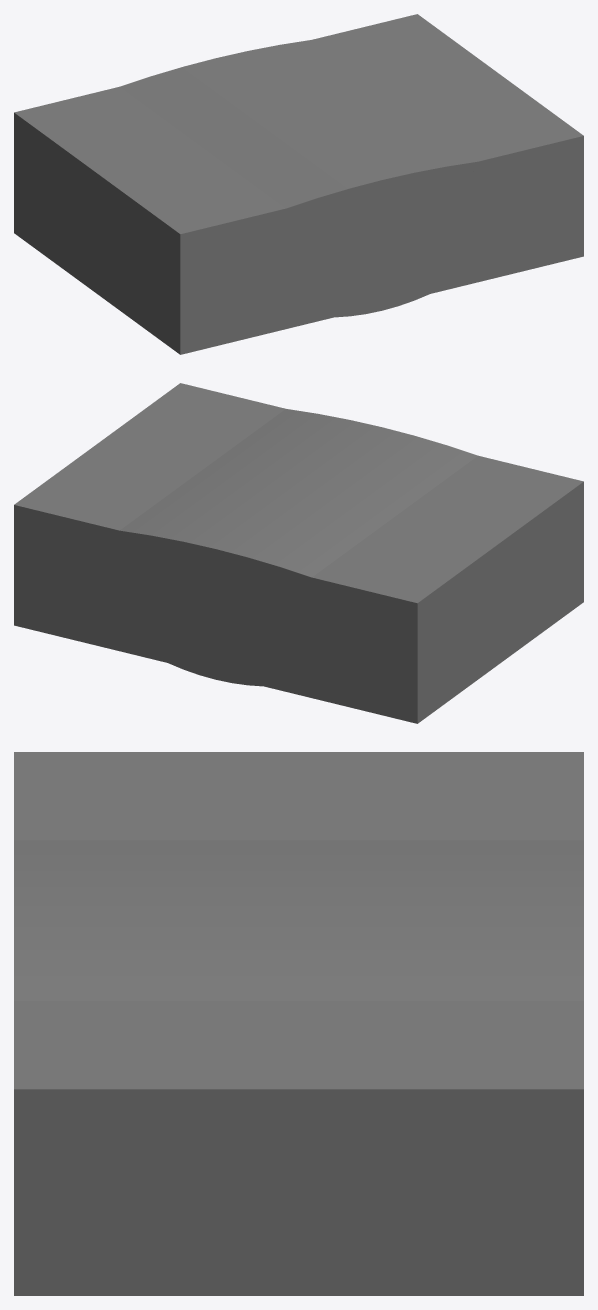
3 views of the same model, one above another, from view 1: azimuth 30°, elevation 25°; view 2: azimuth 150°, elevation 25°; view 3: azimuth 270°, elevation 25° (orthographic). The views are drawn at different scales.
Visible parts, largest first — view 1: mesh_id4, mesh_id5; view 2: mesh_id4, mesh_id5; view 3: mesh_id4, mesh_id5.
Boxes of the visible parts, x1,y1,x2,y2 form: mesh_id4: (14,14,583,354); mesh_id5: (120,40,477,317); mesh_id4: (14,383,583,723); mesh_id5: (120,409,477,686); mesh_id4: (14,752,583,1295); mesh_id5: (14,840,583,1000).
Bounding box in the file's own units: 0.512 × 0.1585 × 0.3657.
2 materials, 2 textured.
